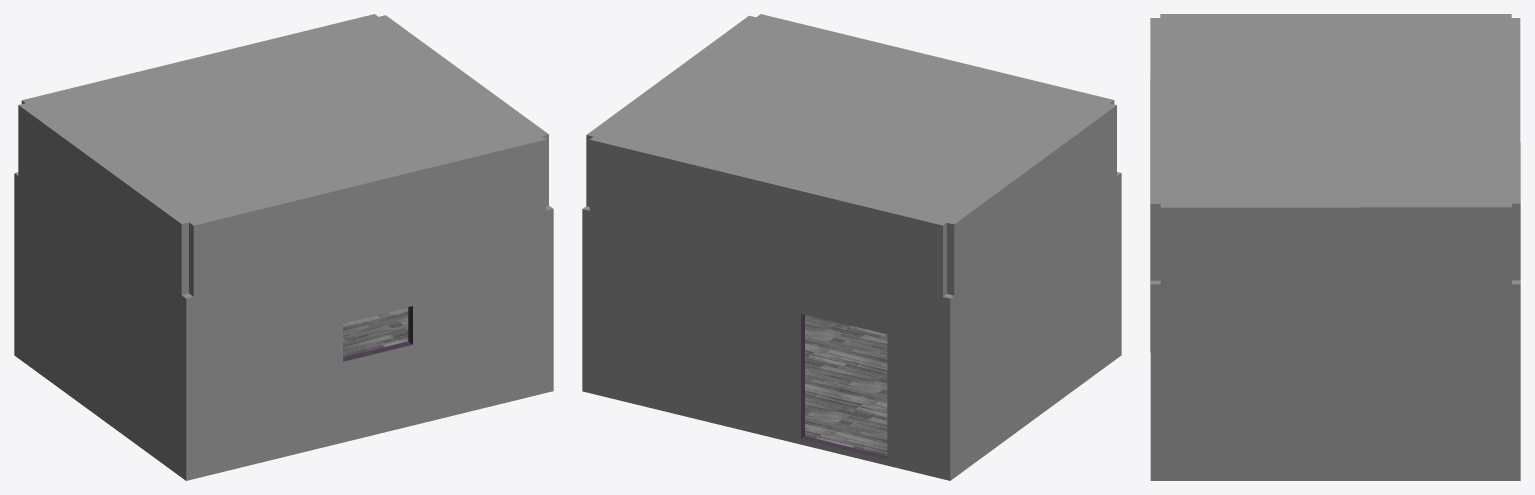
Rendered from Jar of Eyes.fbx.
3 views of the same model, side by side, from view 1: azimuth 30°, elevation 25°; view 2: azimuth 150°, elevation 25°; view 3: azimuth 270°, elevation 25° (orthographic). The views are drawn at different scales.
Parts seen in each view (by area): view 1: pCube14; view 2: pCube14; view 3: pCube14.
Boxes of the visible parts, <box> form: pCube14: <box>14,14,553,480</box>; pCube14: <box>582,14,1121,480</box>; pCube14: <box>1150,14,1520,480</box>.
Bounding box in the file's own units: 20.81 × 13.7 × 16.82.
21 materials, 17 textured.
